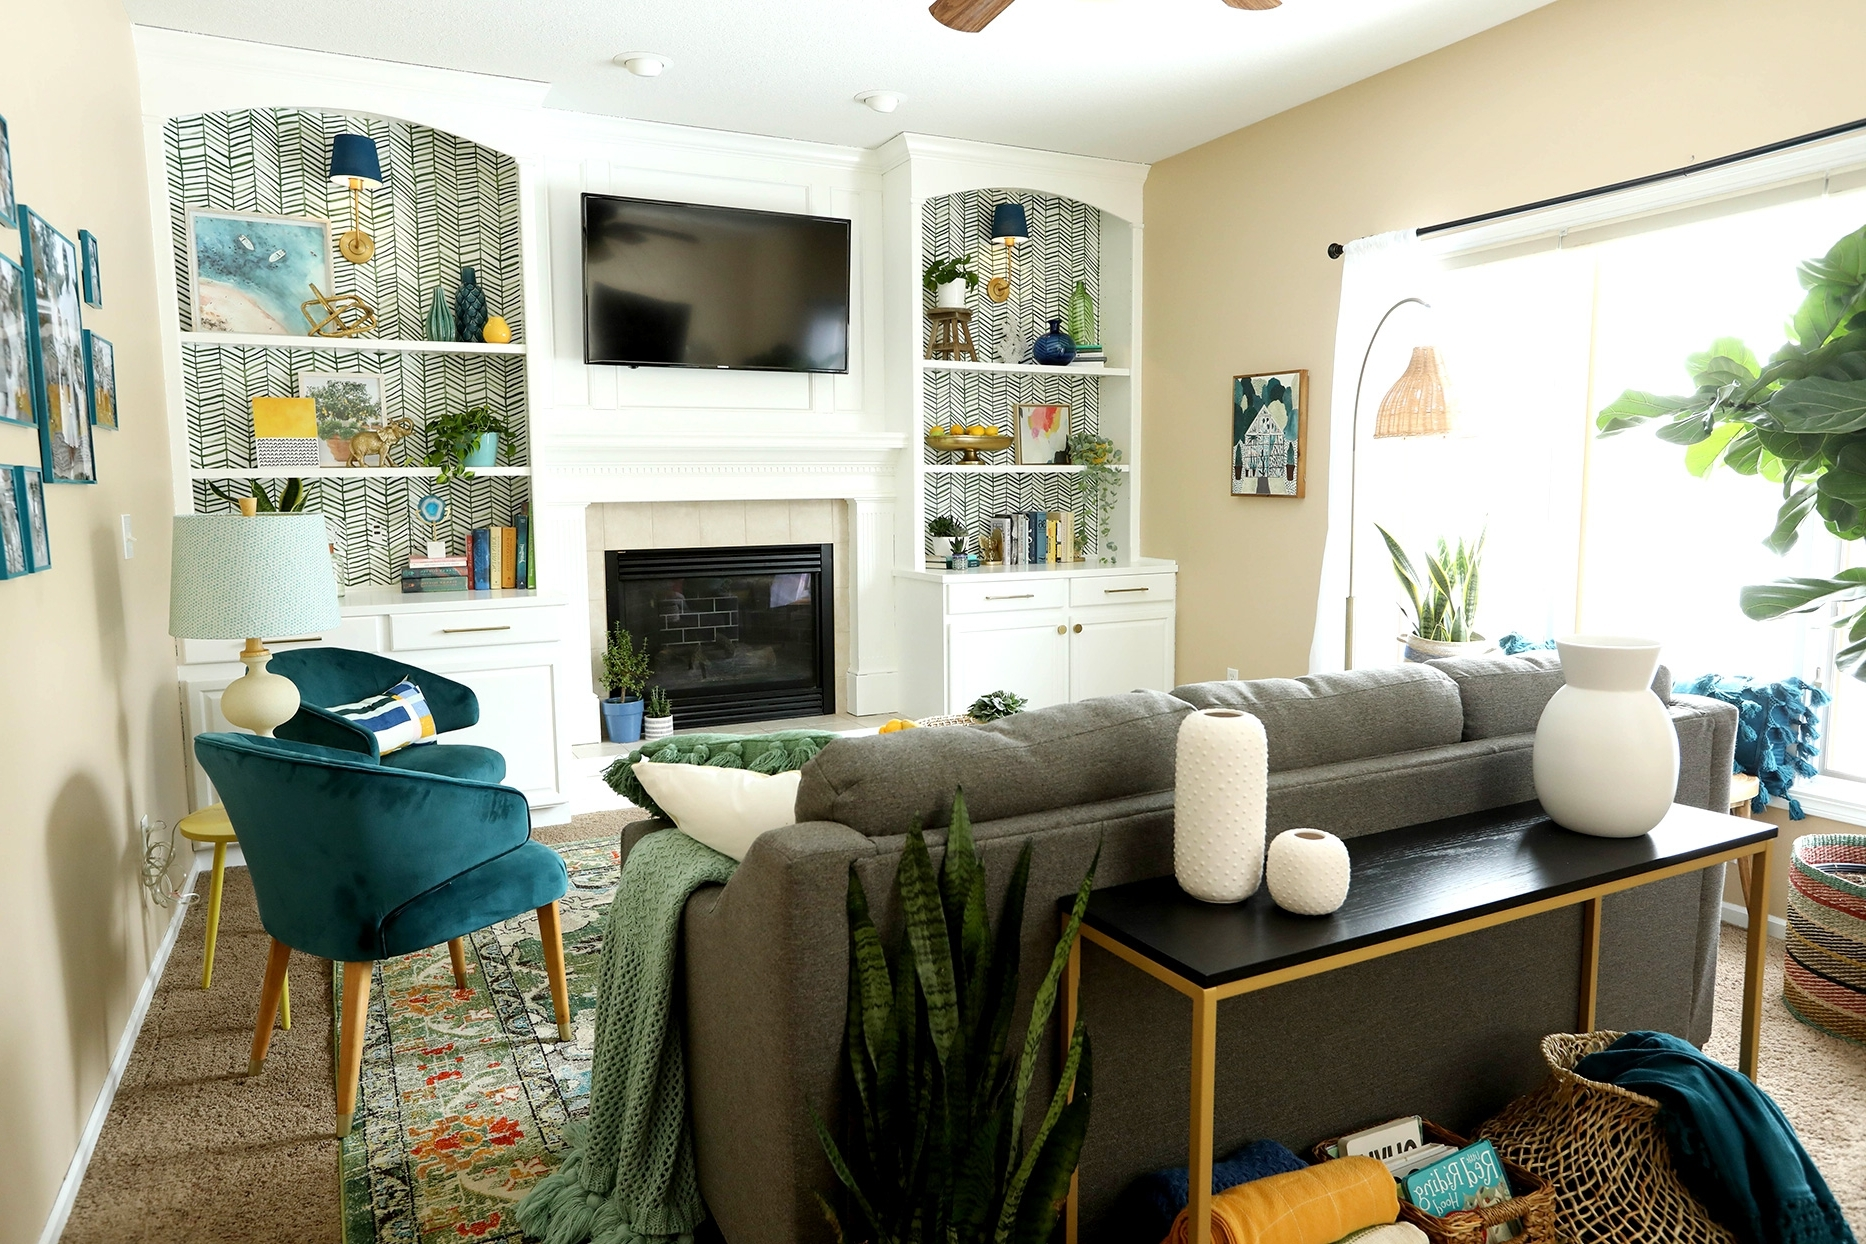biru: (190, 734, 561, 950), (171, 516, 335, 633), (325, 132, 379, 185), (987, 201, 1032, 242), (603, 696, 646, 736), (454, 432, 498, 471), (1039, 318, 1075, 362)
coklat: (927, 310, 980, 360)
hitam: (1058, 801, 1779, 984), (582, 192, 854, 379)
kuning: (482, 317, 512, 344)
putih: (1547, 648, 1674, 829), (1179, 711, 1262, 901), (634, 758, 789, 841), (1275, 836, 1348, 912), (937, 278, 965, 311)
